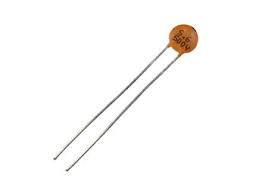ceramic capacitor: (144, 10, 228, 117)
